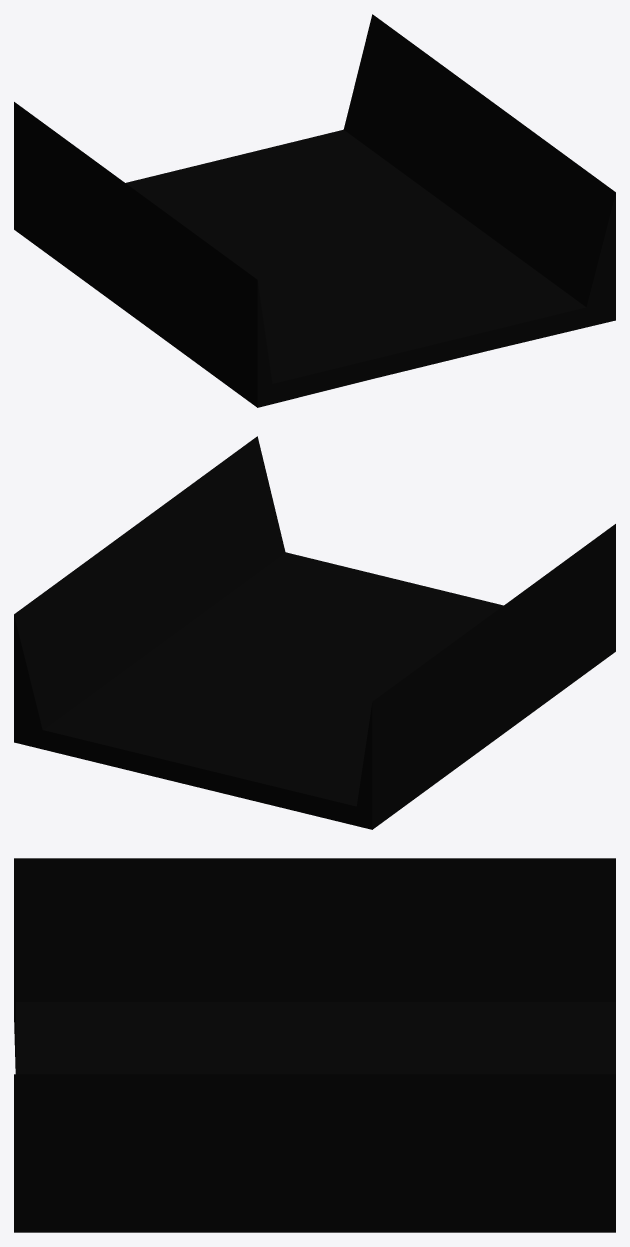
The model's file is Paperholder.fbx.
The picture shows the model from 3 angles, top to bottom: view 1: azimuth 30°, elevation 25°; view 2: azimuth 150°, elevation 25°; view 3: azimuth 270°, elevation 25°; orthographic projection. The views are drawn at different scales.
Visible parts, largest first — view 1: Cube; view 2: Cube; view 3: Cube.
Part boxes in pixels (x1,y1,x2,y2): Cube: [14, 14, 615, 407]; Cube: [14, 436, 615, 829]; Cube: [14, 858, 615, 1232].
Bounding box in the file's own units: 101 × 34.5 × 119.
